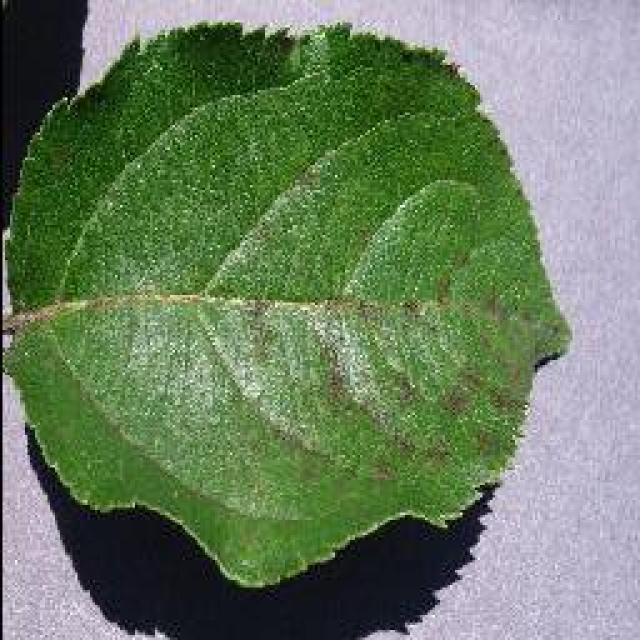apple scab disease: (0, 17, 572, 590)
